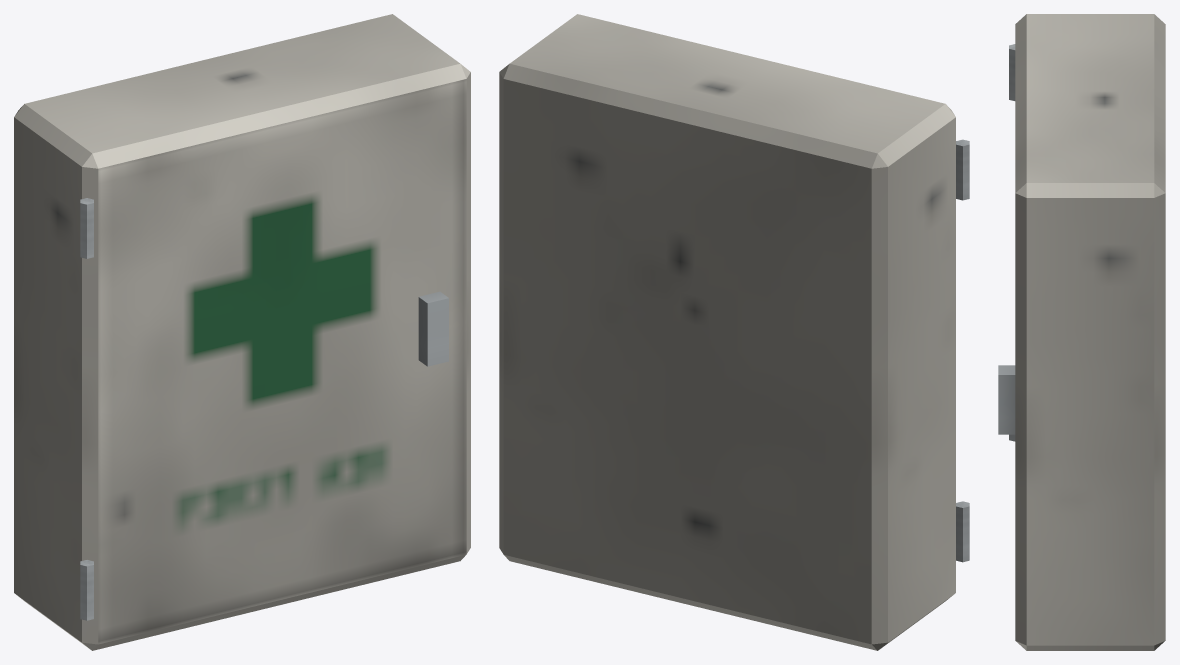
Rendered from first_aid_cabinet.glb.
3 renders of one model, left to right at view 1: azimuth 30°, elevation 25°; view 2: azimuth 150°, elevation 25°; view 3: azimuth 270°, elevation 25°, orthographic. The views are drawn at different scales.
Parts seen in each view (by area): view 1: first_aid_cabinet; view 2: first_aid_cabinet; view 3: first_aid_cabinet.
Boxes of the visible parts, x1,y1,x2,y2 form: first_aid_cabinet: (14, 14, 470, 650); first_aid_cabinet: (499, 14, 969, 650); first_aid_cabinet: (998, 14, 1165, 650).
Size of the model in its own units: 0.459 by 0.55 by 0.178.
1 material, 1 textured.
